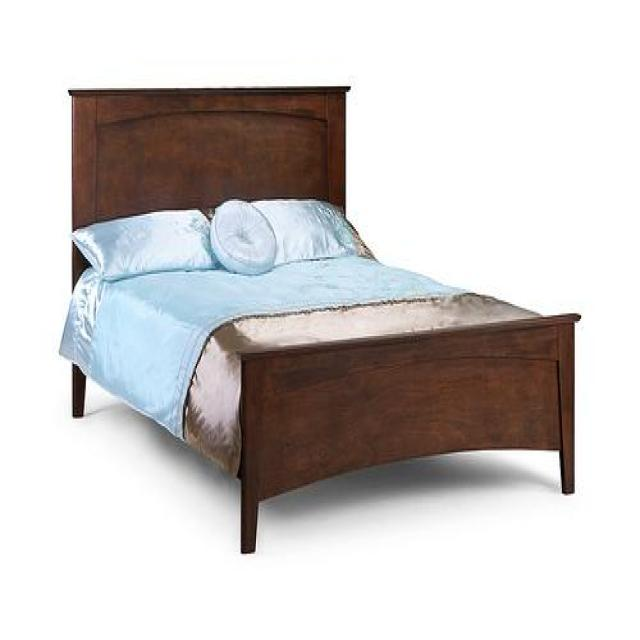bed: (59, 84, 581, 554)
